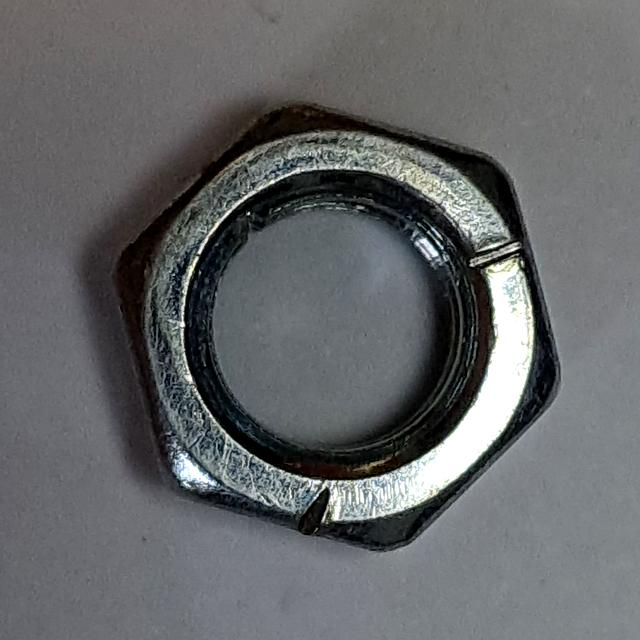Scratches: (105, 91, 577, 564)
